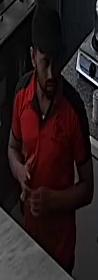no_apron: (11, 74, 82, 190)
